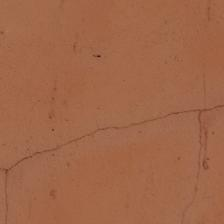Crack: (5, 98, 219, 126), (0, 43, 72, 100), (106, 60, 115, 147)
